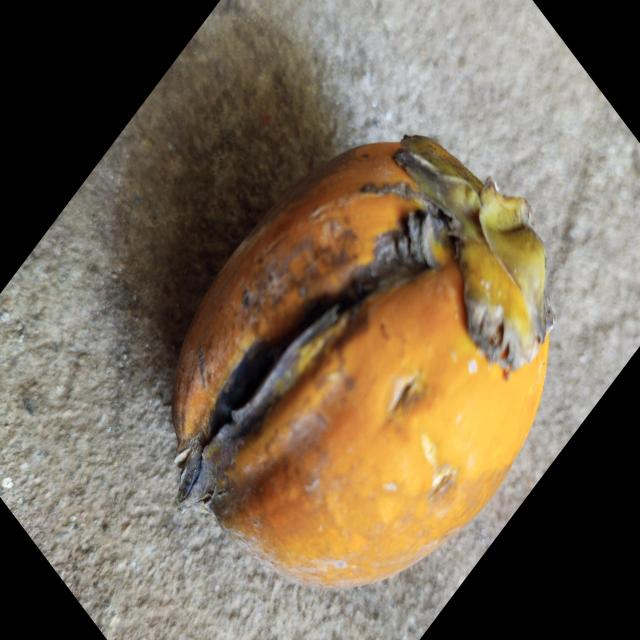damaged: (172, 136, 554, 586)
